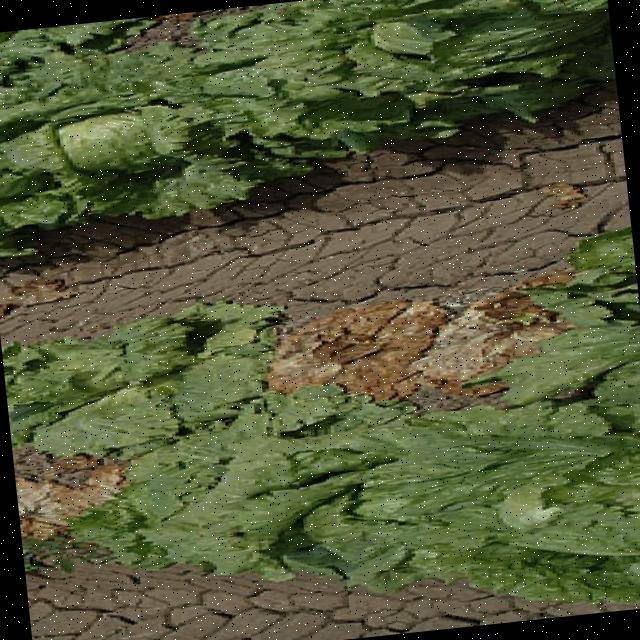Wilt_and_leaf_blight_on_lettuce: (242, 274, 592, 411), (10, 419, 151, 546)
